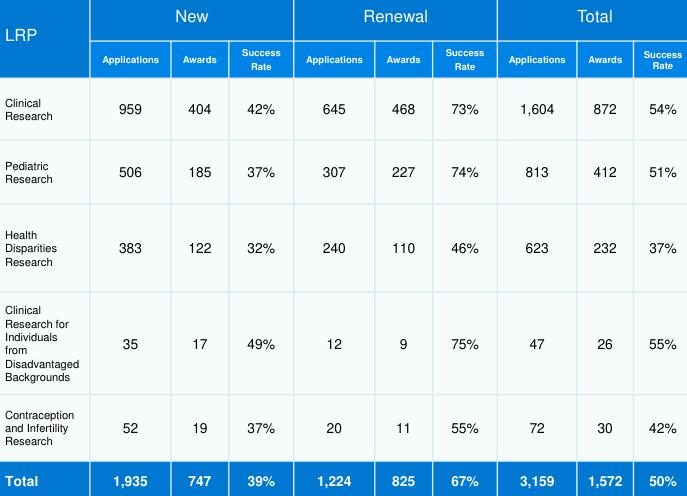table: (3, 3, 681, 489)
table column: (3, 3, 89, 489), (292, 3, 373, 489), (89, 3, 169, 489), (495, 3, 575, 489), (228, 3, 292, 489), (432, 3, 495, 489), (169, 3, 228, 489), (373, 3, 432, 489), (575, 3, 632, 489), (632, 3, 681, 489)
table column header: (3, 3, 681, 82)
table row: (3, 284, 681, 394), (3, 205, 681, 284), (3, 139, 681, 205), (3, 394, 681, 459), (3, 82, 681, 139), (3, 35, 681, 82), (3, 3, 681, 35), (3, 459, 681, 489)
table spanning cell: (3, 3, 89, 82), (89, 3, 292, 35), (292, 3, 495, 35), (495, 3, 681, 35)
